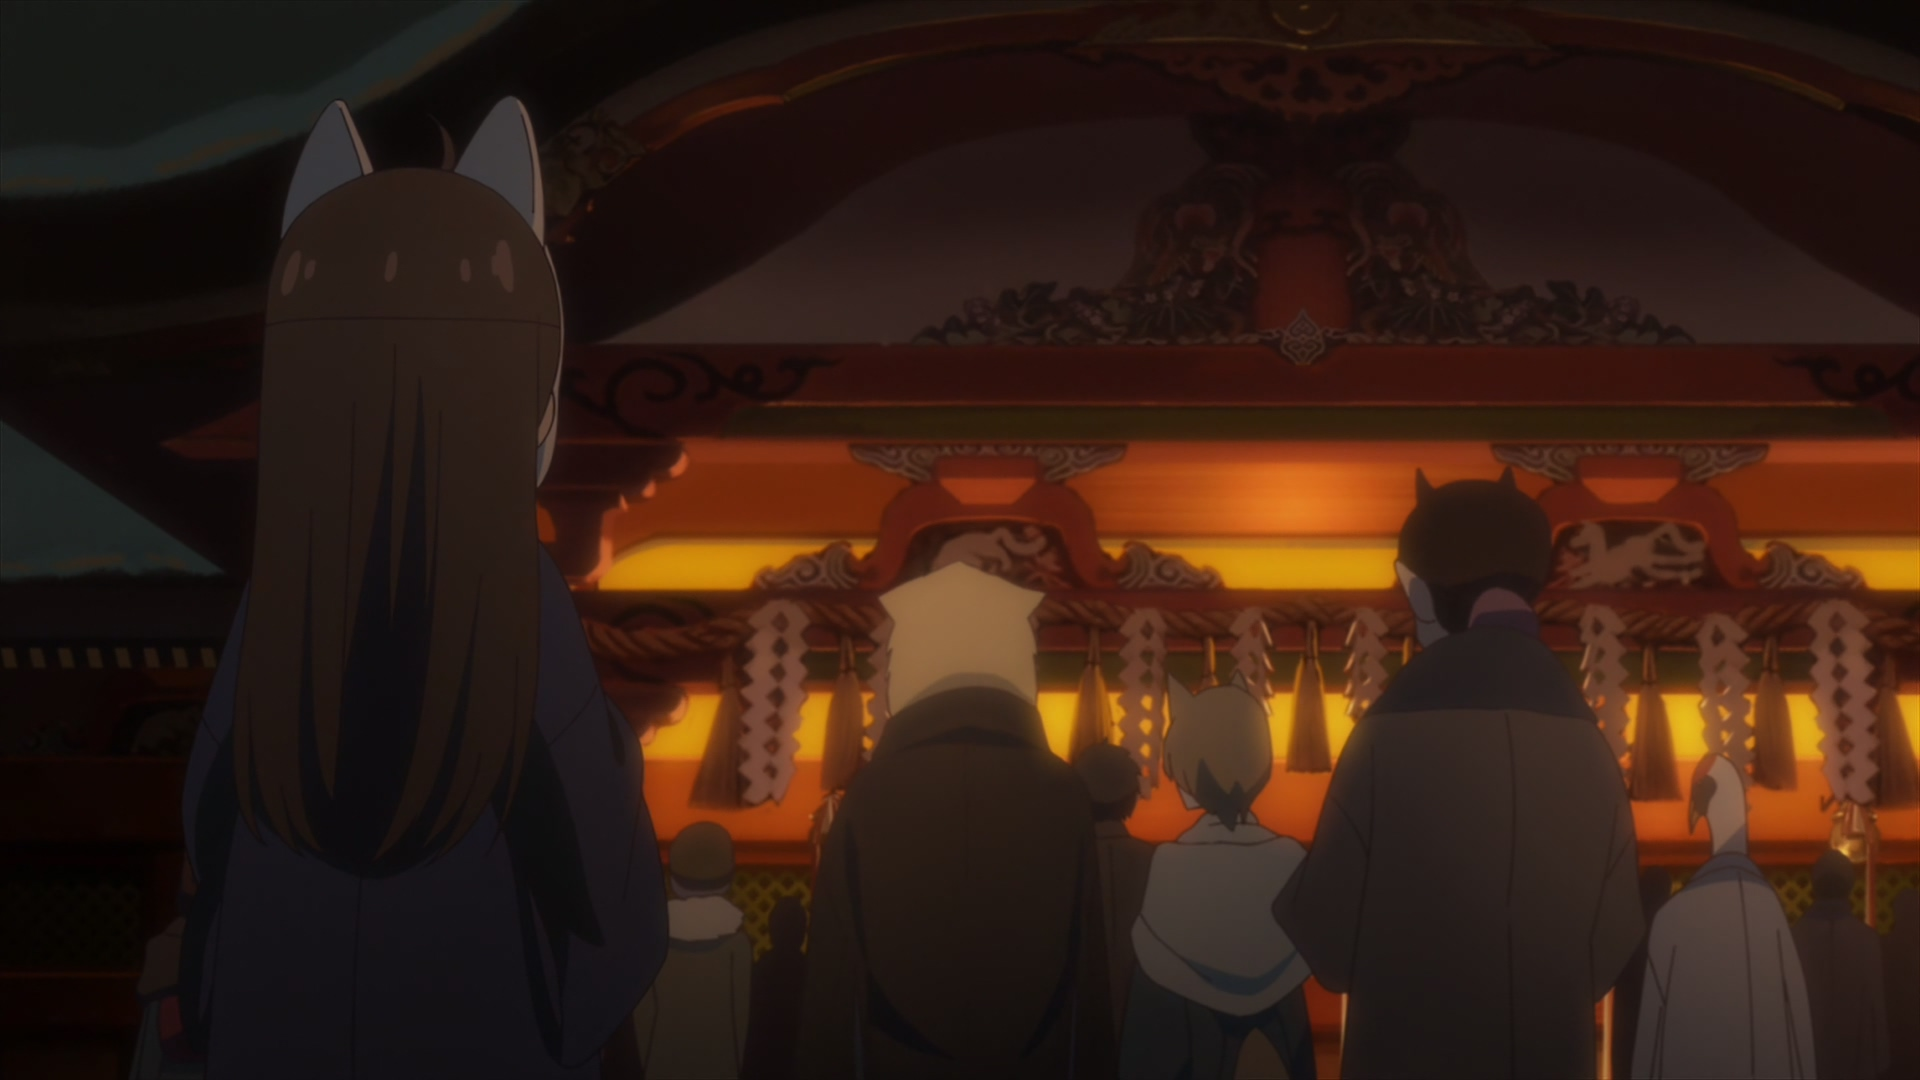其他: (178, 102, 669, 1080), (1273, 465, 1643, 1080), (808, 560, 1098, 1080), (1131, 674, 1317, 1080), (1634, 757, 1812, 1080), (1068, 738, 1153, 1080), (651, 823, 749, 1080), (1789, 851, 1892, 1080), (752, 890, 812, 1080)
